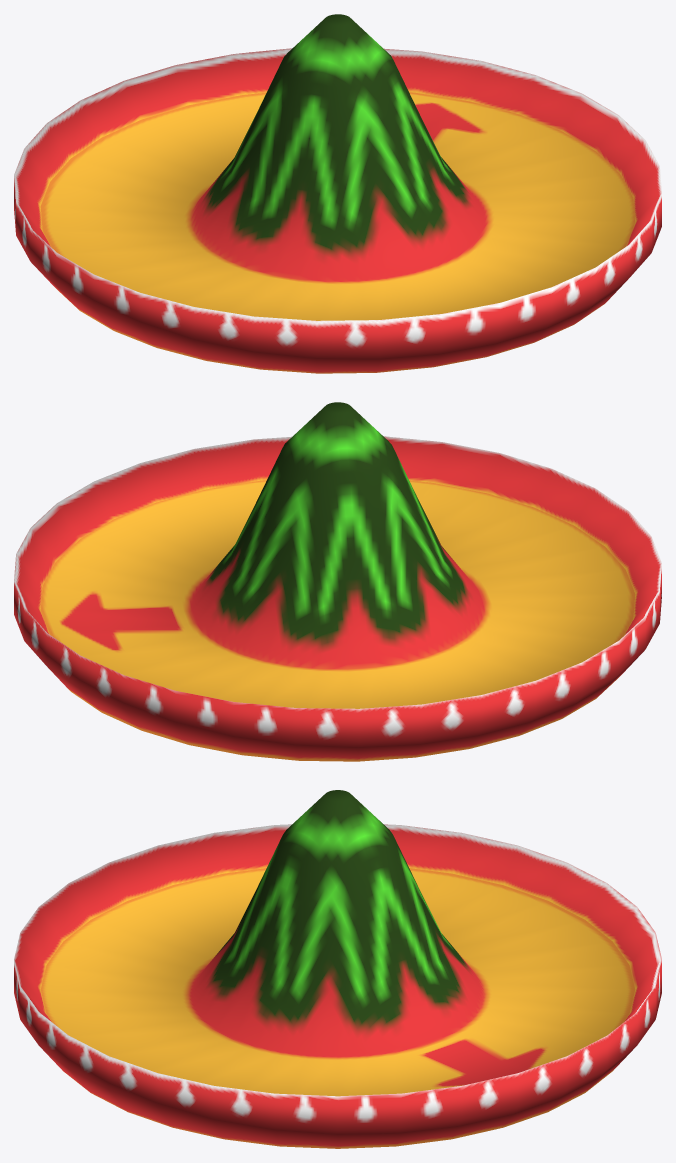
File: sombrero.glb
3 renders of one model, top to bottom at view 1: azimuth 30°, elevation 25°; view 2: azimuth 150°, elevation 25°; view 3: azimuth 270°, elevation 25°, orthographic.
Parts seen in each view (by area): view 1: Cylinder; view 2: Cylinder; view 3: Cylinder.
Boxes of the visible parts, box(x1,y1,x2,y2) form: Cylinder: box(14, 14, 661, 373); Cylinder: box(14, 402, 661, 761); Cylinder: box(14, 790, 661, 1148).
Bounding box in the file's own units: 8.72 × 3.38 × 8.72.
1 material, 1 textured.
